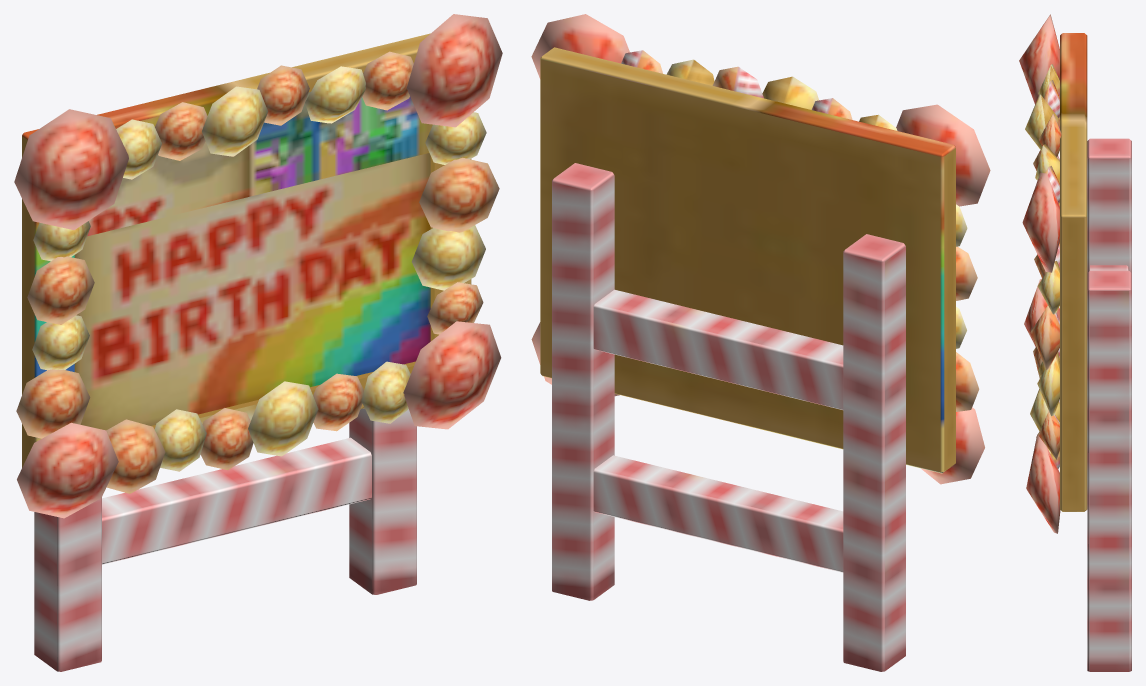
The model's file is int_btd_board.dae.
3 views of the same model, side by side, from view 1: azimuth 30°, elevation 25°; view 2: azimuth 150°, elevation 25°; view 3: azimuth 270°, elevation 25° (orthographic). The views are drawn at different scales.
Parts seen in each view (by area): view 1: int_btd_board; view 2: int_btd_board; view 3: int_btd_board.
Part boxes in pixels (bbox=[...]): int_btd_board: bbox=[14, 14, 502, 671]; int_btd_board: bbox=[531, 14, 990, 671]; int_btd_board: bbox=[1019, 14, 1131, 671].
Size of the model in its own units: 43.76 by 49.7 by 10.1.
1 material, 1 textured.
